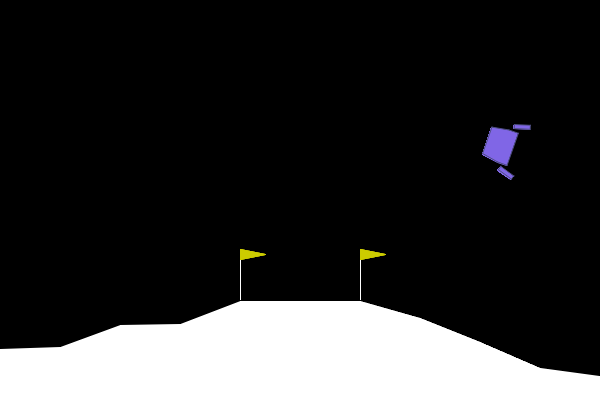lander: (475, 112, 532, 182)
